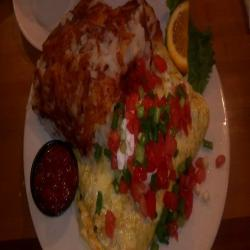ketchup: (30, 145, 77, 211)
omelette: (81, 66, 205, 250)
